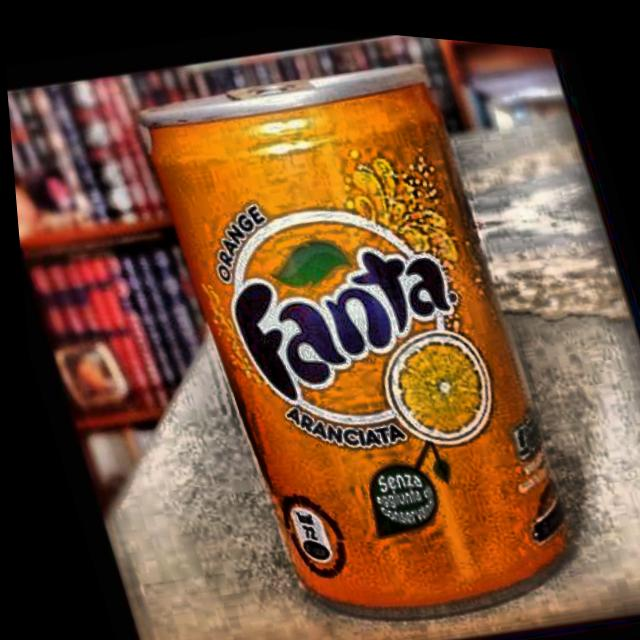Cans: (99, 12, 632, 640)
